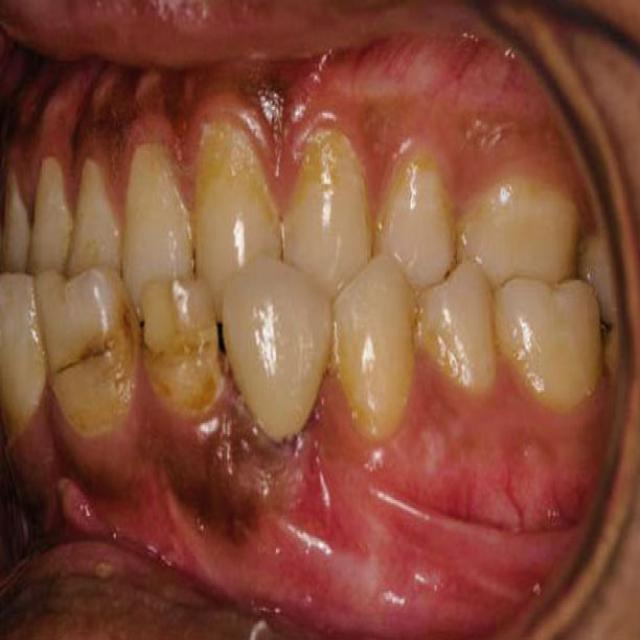caries: (53, 313, 117, 386), (139, 308, 214, 362)
